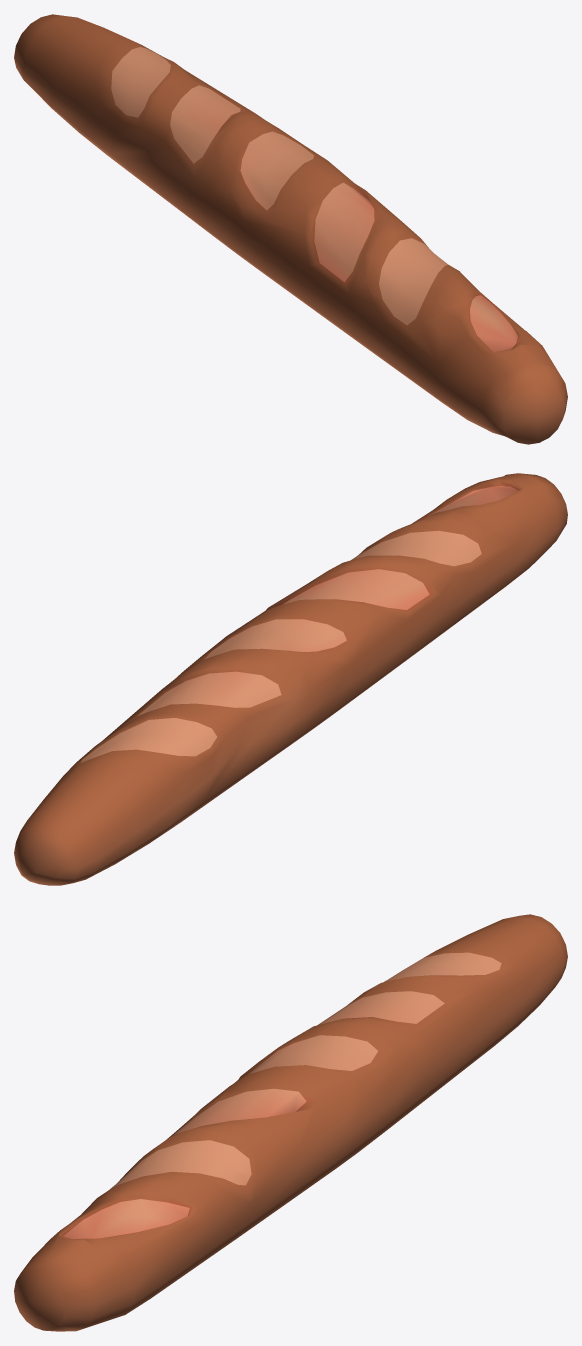
Rendered from consumables-bakedgoods-baguette_v1.glb.
The picture shows the model from 3 angles, top to bottom: view 1: azimuth 30°, elevation 25°; view 2: azimuth 150°, elevation 25°; view 3: azimuth 330°, elevation 25°; orthographic projection. The views are drawn at different scales.
Parts seen in each view (by area): view 1: Baguette.001; view 2: Baguette.001; view 3: Baguette.001.
Boxes of the visible parts, left/top/right/bottom form: Baguette.001: left=14, top=14, right=567, bottom=444; Baguette.001: left=14, top=473, right=567, bottom=885; Baguette.001: left=14, top=914, right=567, bottom=1331.
Size of the model in its own units: 0.0744 by 0.0635 by 0.5487.
